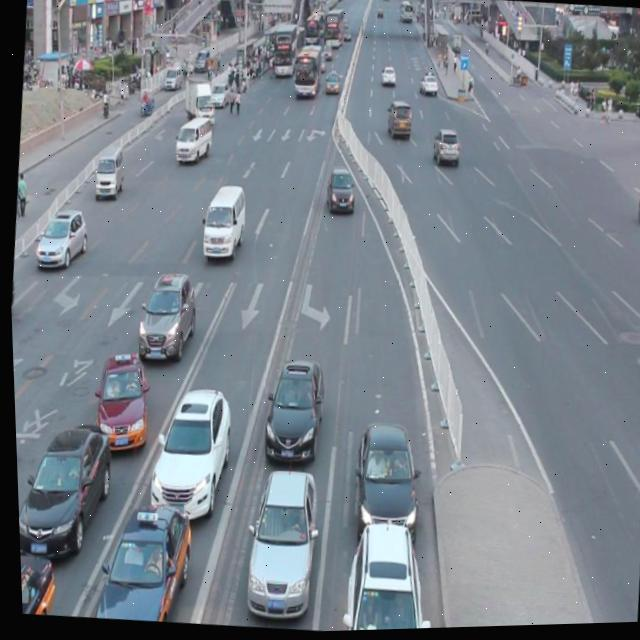car: (12, 411, 113, 562), (82, 488, 192, 626), (234, 457, 320, 620), (140, 378, 234, 522), (335, 511, 430, 633), (345, 411, 420, 538), (255, 350, 326, 465), (87, 344, 152, 454), (130, 262, 199, 364), (30, 203, 89, 272), (16, 545, 54, 616), (322, 165, 356, 217), (428, 128, 459, 170)
truck: (196, 182, 247, 261), (172, 114, 213, 167), (91, 143, 125, 202)
